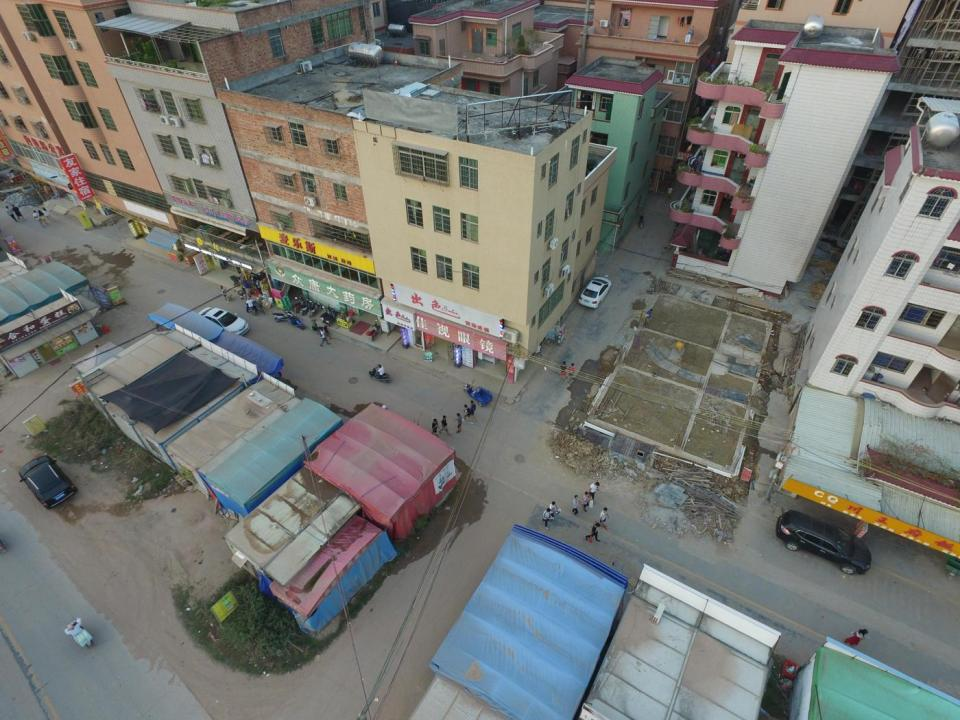car: (777, 510, 871, 576), (19, 454, 78, 509), (195, 306, 249, 339), (577, 275, 611, 309)
